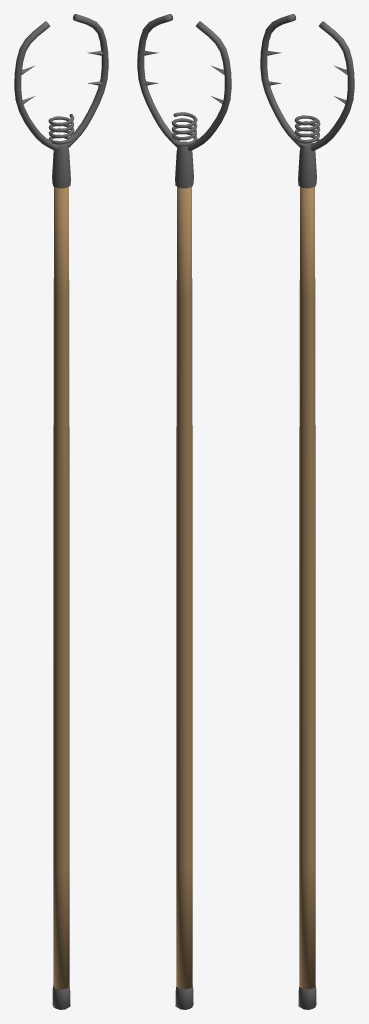
The model's file is mancatcher.glb.
The picture shows the model from 3 angles, left to right: view 1: azimuth 30°, elevation 25°; view 2: azimuth 150°, elevation 25°; view 3: azimuth 330°, elevation 25°; orthographic projection.
Visible parts, largest first — view 1: mancatcher; view 2: mancatcher; view 3: mancatcher.
Boxes of the visible parts, x1,y1,x2,y2 form: mancatcher: (14, 14, 108, 1009); mancatcher: (137, 14, 231, 1009); mancatcher: (260, 14, 354, 1009).
Bounding box in the file's own units: 0.484 × 4.89 × 0.1154.
